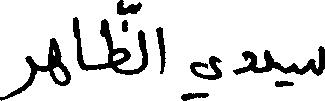X: (102, 0, 129, 79), (183, 51, 219, 100), (0, 51, 34, 100), (293, 41, 324, 89), (266, 45, 291, 91), (49, 33, 68, 90), (236, 46, 256, 79), (140, 0, 147, 76), (74, 12, 81, 73), (158, 22, 164, 78)
